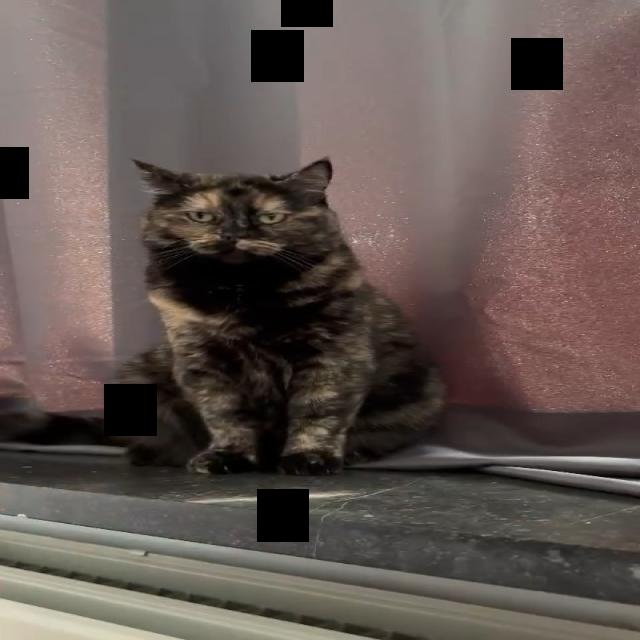authorized: (105, 154, 448, 476)
